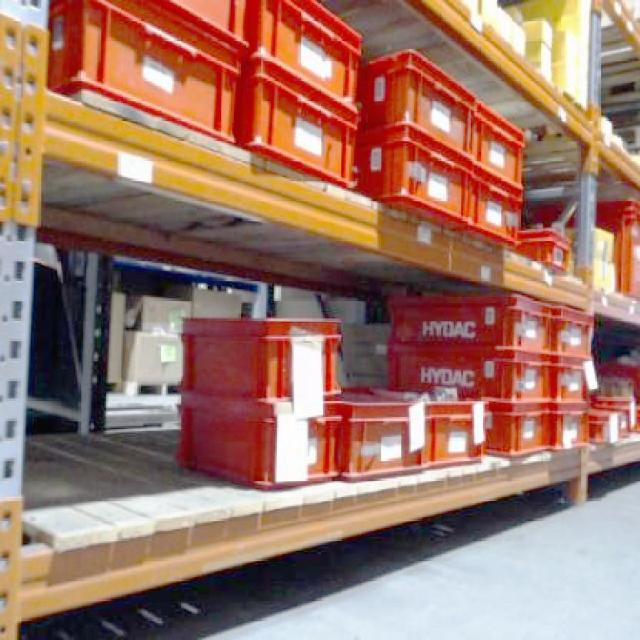ground: (0, 417, 638, 638)
pallet: (0, 0, 638, 279), (136, 241, 640, 492)
